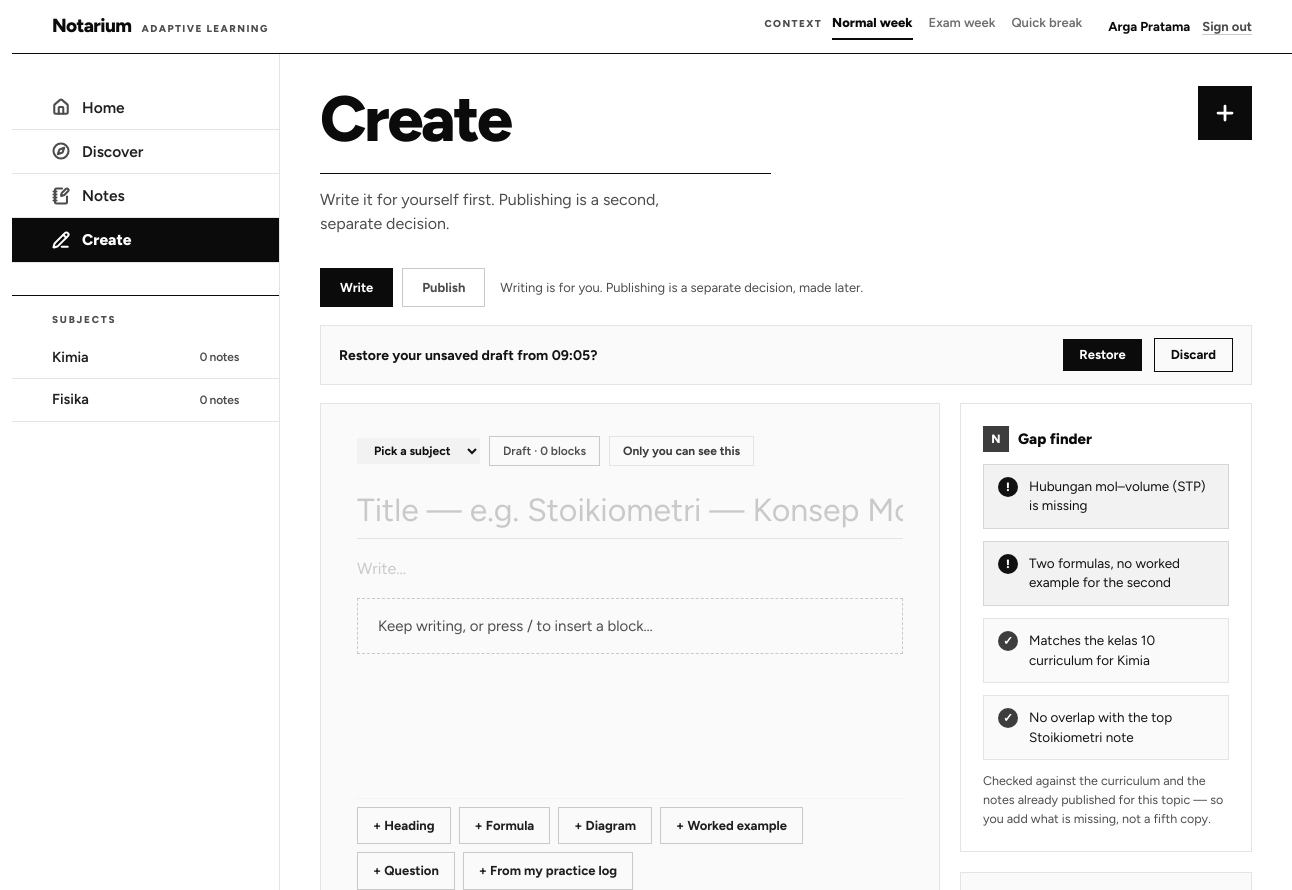
Create keeps a draft per account in this tab (W5.5, Feature A) › Discard forgets the draft and leaves the editor empty
What coordinates should you click on to do the following:
click the button "Discard"
I would click on:
 (1193, 355)
Its box is x1=1154 y1=338 x2=1233 y2=372.
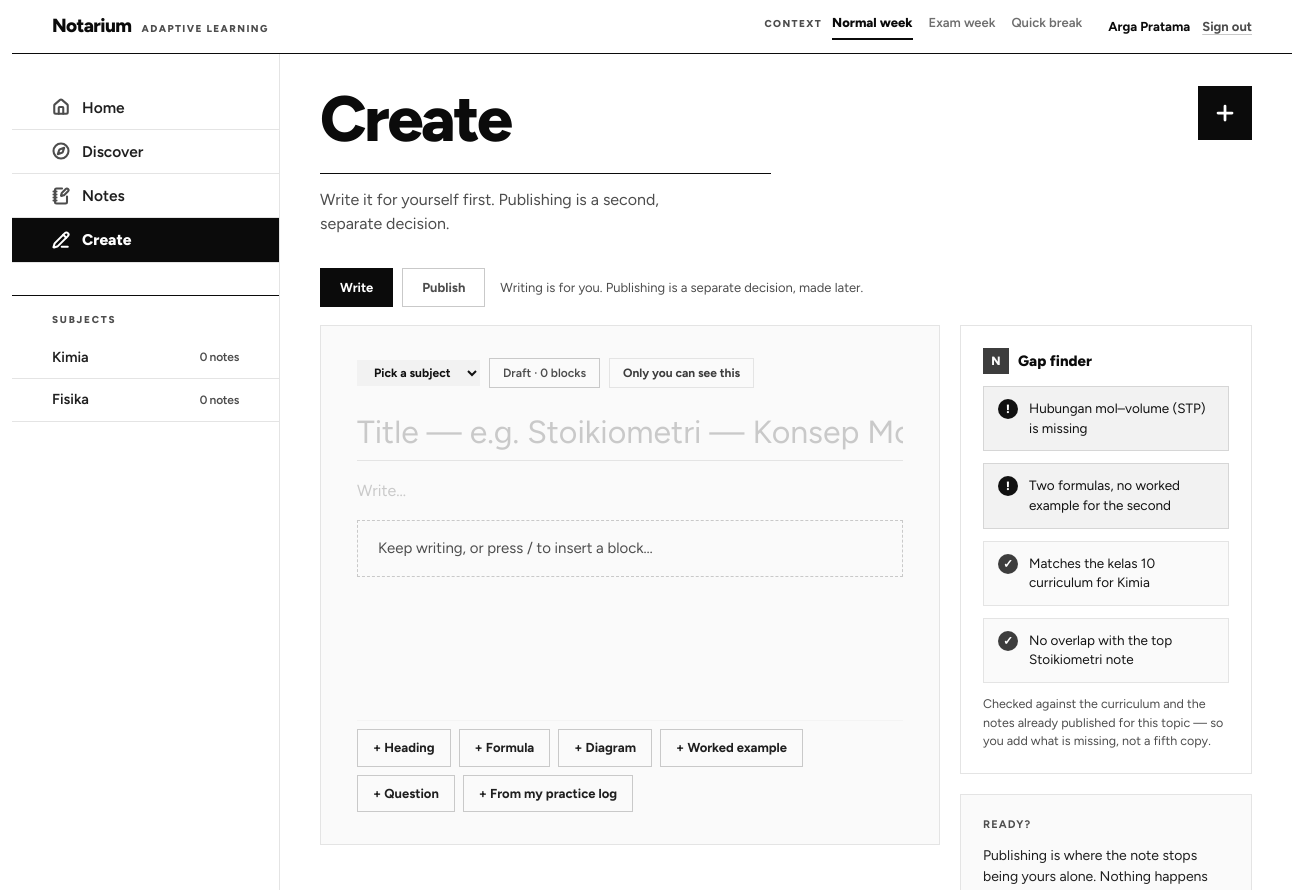
Expected: the field labelled "Title" is empty, x1=357 y1=404 x2=903 y2=461
Expected: the message "Restore your unsaved draft from 09:05? Restore Discard" is gone
